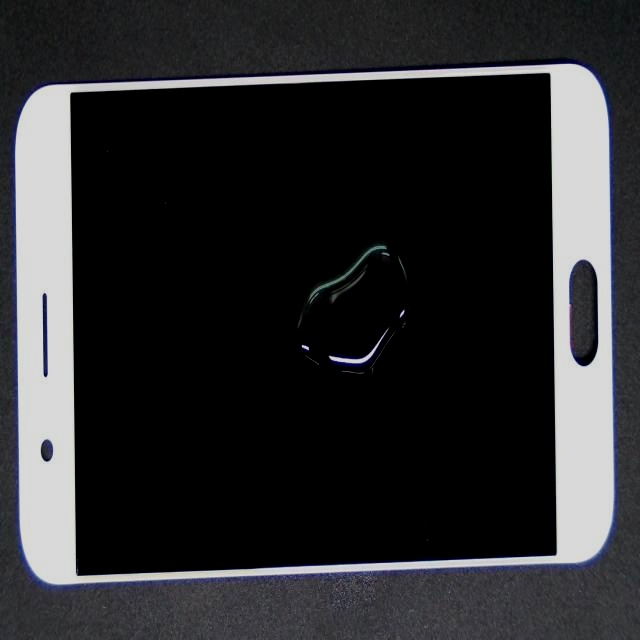oil: (214, 148, 597, 385)
